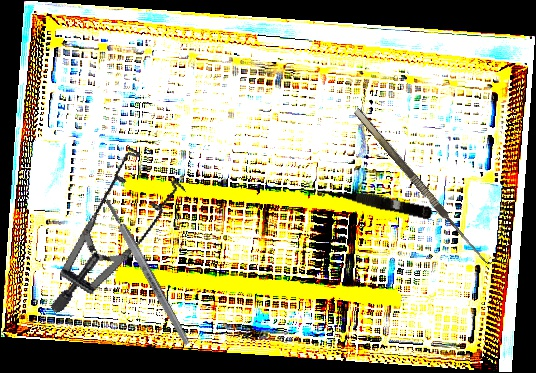Hook Surgical: (353, 101, 499, 269)
Micro Scissor: (313, 180, 435, 221)
Scalpel Handle: (101, 196, 193, 348)
Speculum: (6, 133, 210, 314)
